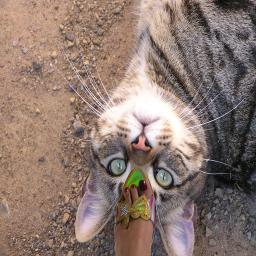catnose: (129, 134, 155, 158)
